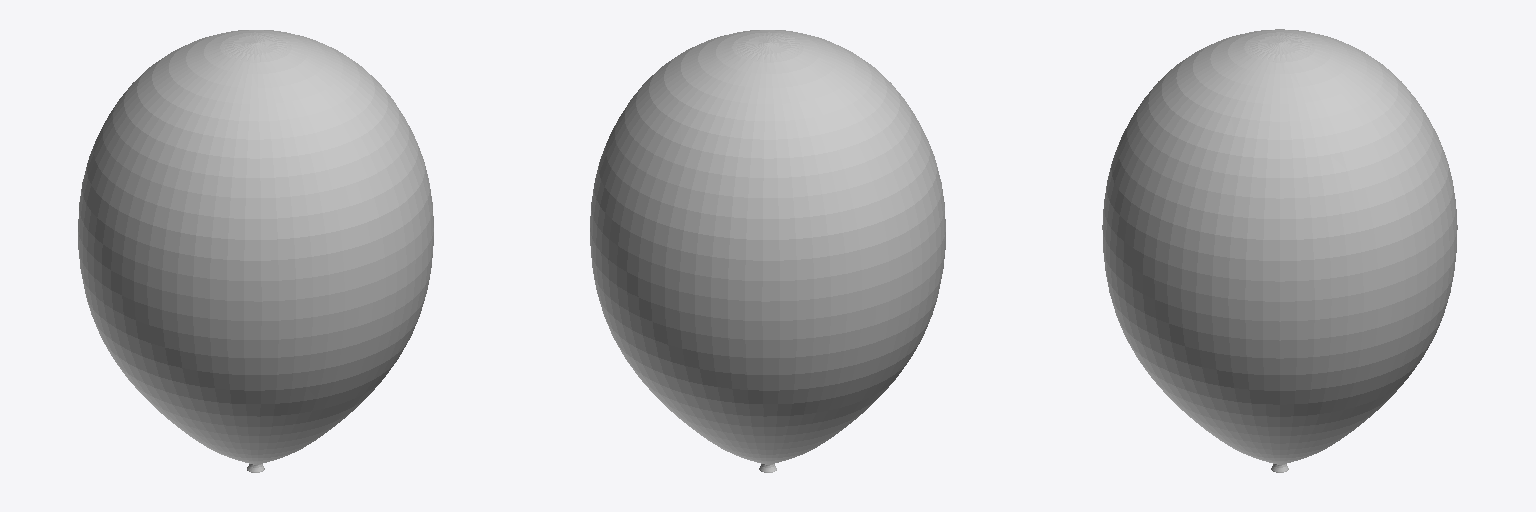
The model's file is Globo2.obj.
3 renders of one model, left to right at view 1: azimuth 30°, elevation 25°; view 2: azimuth 150°, elevation 25°; view 3: azimuth 270°, elevation 25°, orthographic.
Visible parts, largest first — view 1: Sphere.001; view 2: Sphere.001; view 3: Sphere.001.
Part boxes in pixels (x1,y1,x2,y2): Sphere.001: (78,30,433,472); Sphere.001: (590,30,945,472); Sphere.001: (1102,29,1457,472).
Bounding box in the file's own units: 0.5211 × 0.688 × 0.519.